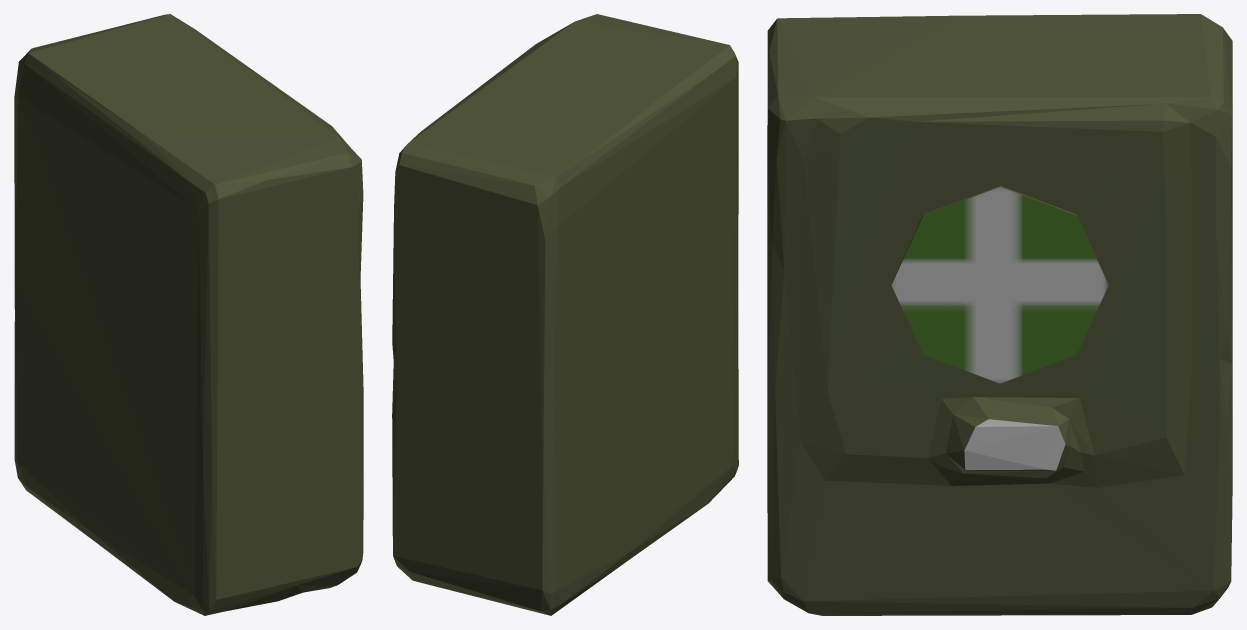
File: Aptechka.fbx
The picture shows the model from 3 angles, left to right: view 1: azimuth 30°, elevation 25°; view 2: azimuth 150°, elevation 25°; view 3: azimuth 270°, elevation 25°; orthographic projection. The views are drawn at different scales.
Parts seen in each view (by area): view 1: aptechka; view 2: aptechka; view 3: aptechka.
Part boxes in pixels (left/top/right/bottom): aptechka: left=14, top=14, right=363, bottom=615; aptechka: left=392, top=14, right=738, bottom=615; aptechka: left=767, top=14, right=1232, bottom=615.
Bounding box in the file's own units: 342 × 792 × 645.
1 material, 1 textured.
